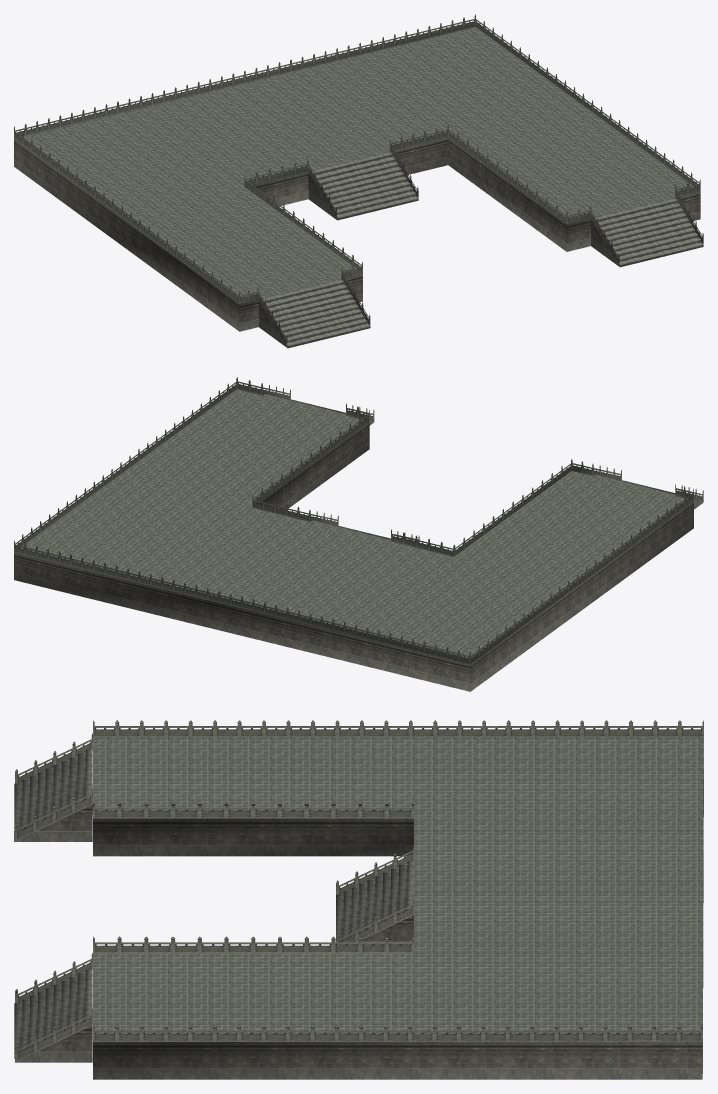
The model's file is cj_mili_mainstair.glb.
3 renders of one model, top to bottom at view 1: azimuth 30°, elevation 25°; view 2: azimuth 150°, elevation 25°; view 3: azimuth 270°, elevation 25°, orthographic. The views are drawn at different scales.
Parts seen in each view (by area): view 1: CJ_mili_mainste04, CJ_mili_mainste02, CJ_mili_mainste01, CJ_mili_mainste03; view 2: CJ_mili_mainste04, CJ_mili_mainste02, CJ_mili_mainste01, CJ_mili_mainste03; view 3: CJ_mili_mainste04, CJ_mili_mainste02, CJ_mili_mainste01, CJ_mili_mainste03.
Boxes of the visible parts, x1,y1,x2,y2 form: CJ_mili_mainste04: [20, 27, 693, 298]; CJ_mili_mainste02: [14, 137, 700, 347]; CJ_mili_mainste01: [14, 14, 703, 347]; CJ_mili_mainste03: [261, 152, 703, 348]; CJ_mili_mainste04: [20, 389, 687, 657]; CJ_mili_mainste02: [14, 421, 702, 691]; CJ_mili_mainste01: [14, 377, 703, 664]; CJ_mili_mainste03: [263, 394, 703, 541]; CJ_mili_mainste04: [93, 737, 703, 1033]; CJ_mili_mainste02: [14, 780, 703, 1079]; CJ_mili_mainste01: [14, 720, 703, 1061]; CJ_mili_mainste03: [14, 750, 413, 1058].
Bounding box in the file's own units: 52.3 × 4.37 × 50.05.
Materials: 4 (4 with a texture image).
